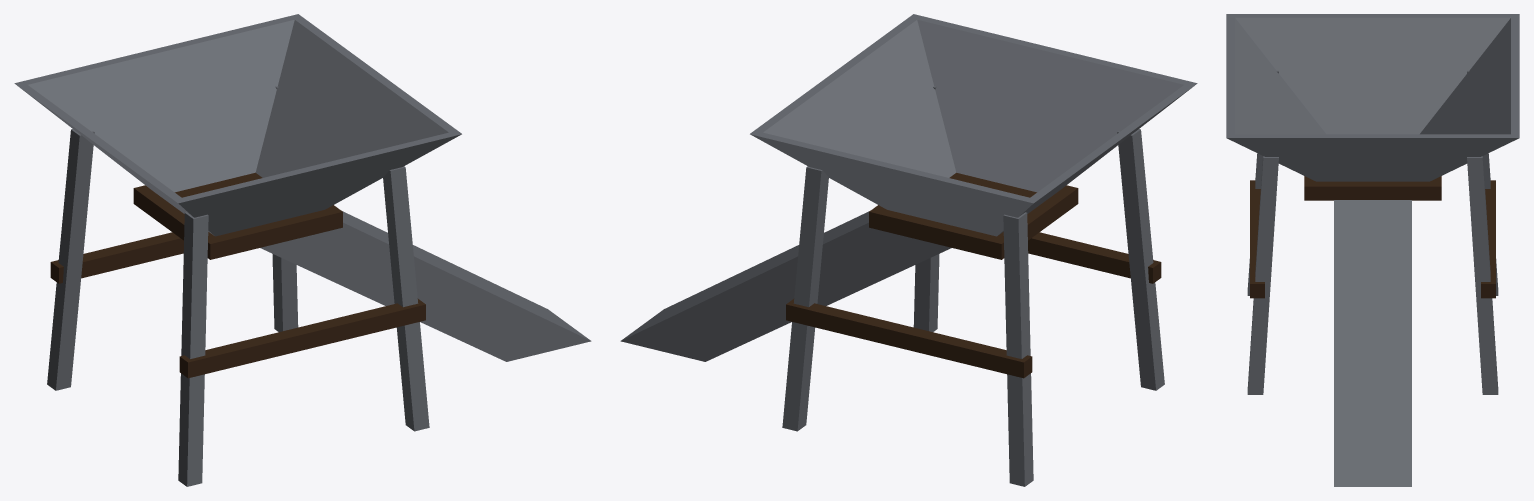
The model's file is SN_Coal_Chute.glb.
3 renders of one model, left to right at view 1: azimuth 30°, elevation 25°; view 2: azimuth 150°, elevation 25°; view 3: azimuth 270°, elevation 25°, orthographic. The views are drawn at different scales.
Parts seen in each view (by area): view 1: SN_Coal_Chute; view 2: SN_Coal_Chute; view 3: SN_Coal_Chute.
Part boxes in pixels (left/top/right/bottom): SN_Coal_Chute: left=14, top=14, right=591, bottom=486; SN_Coal_Chute: left=620, top=14, right=1197, bottom=486; SN_Coal_Chute: left=1226, top=14, right=1519, bottom=486.
Bounding box in the file's own units: 2.5 × 1.5 × 1.5.
